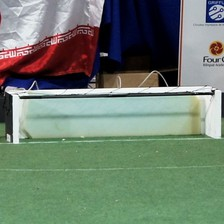goal: (3, 84, 224, 146)
